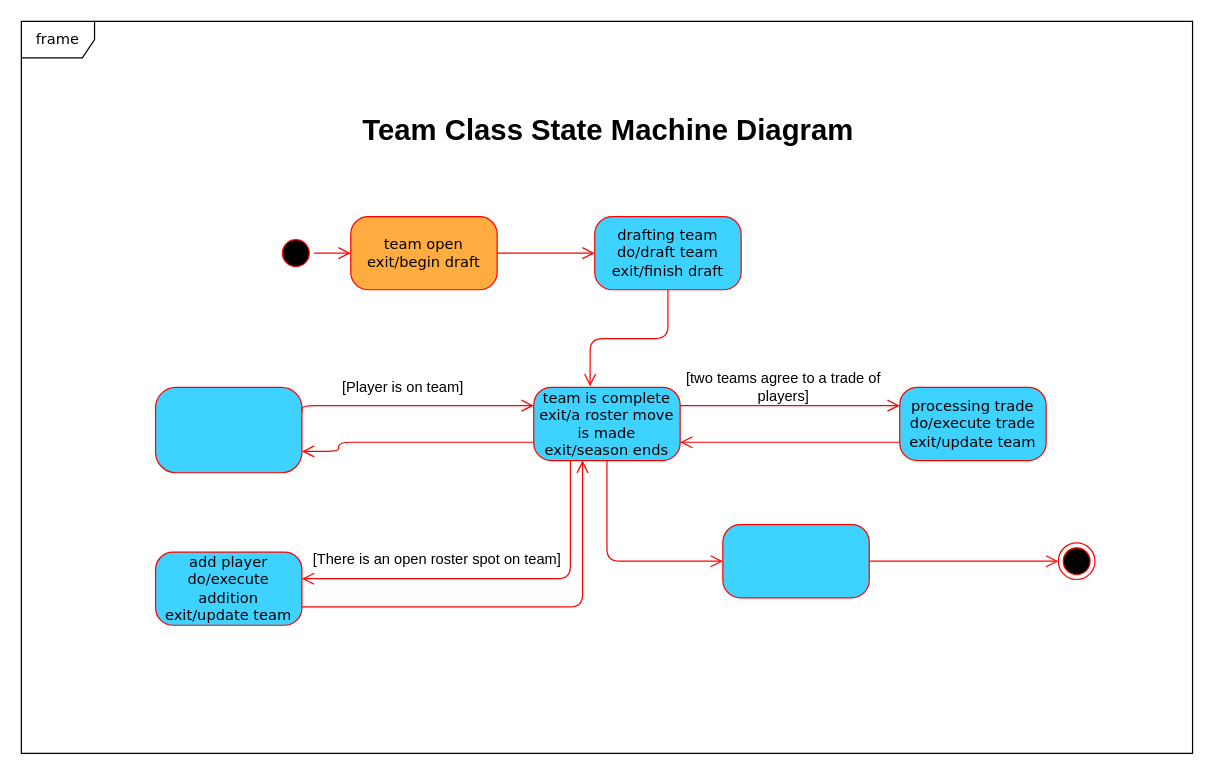
The diagram is 1214 pixels wide and 775 high, and some of its shapes have lost their labels. The shapes that lost their labels are listed below. From the top down, each one's centre as x and y in pixels, then its label:
(x=228, y=429): player being dropped do/execute drop of player exit/update team
(x=795, y=560): team completes season exit/the season ends
